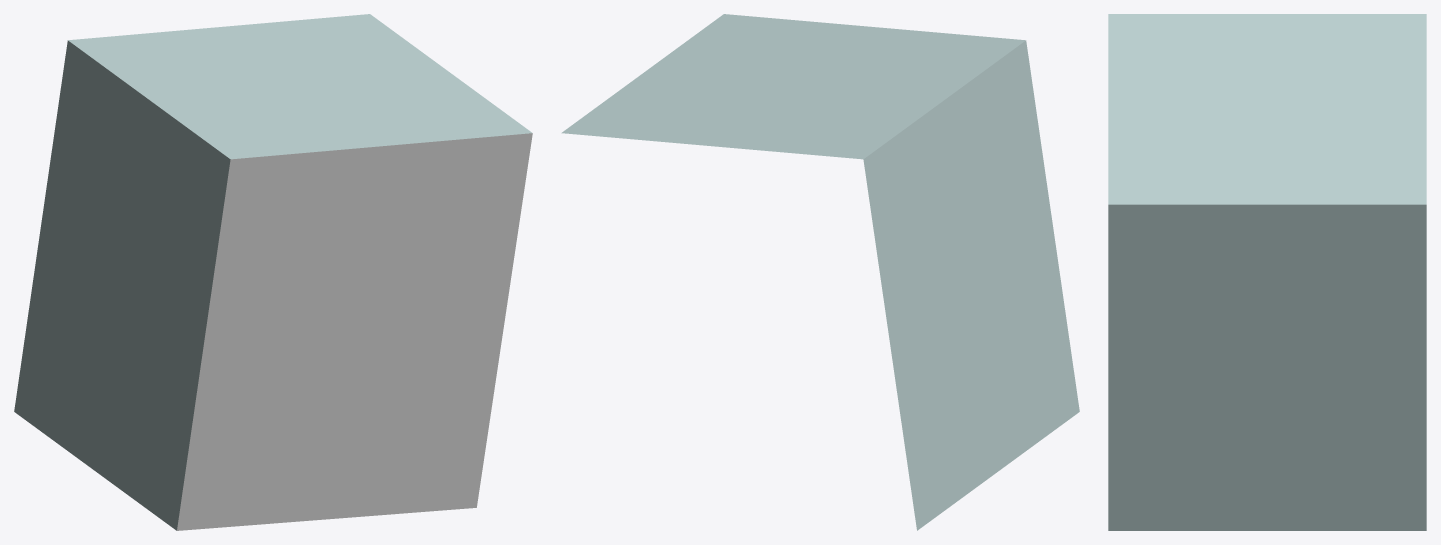
3 renders of one model, left to right at view 1: azimuth 30°, elevation 25°; view 2: azimuth 150°, elevation 25°; view 3: azimuth 270°, elevation 25°, orthographic. The views are drawn at different scales.
Visible parts, largest first — view 1: 0_1_1_2_3_1_3_2_3; view 2: 0_1_1_2_3_1_3_2_3; view 3: 0_1_1_2_3_1_3_2_3.
Boxes of the visible parts, <box> form: 0_1_1_2_3_1_3_2_3: <box>14,14,532,530</box>; 0_1_1_2_3_1_3_2_3: <box>561,14,1079,530</box>; 0_1_1_2_3_1_3_2_3: <box>1108,14,1426,530</box>.
Size of the model in its own units: 3.79 by 4.15 by 3.
